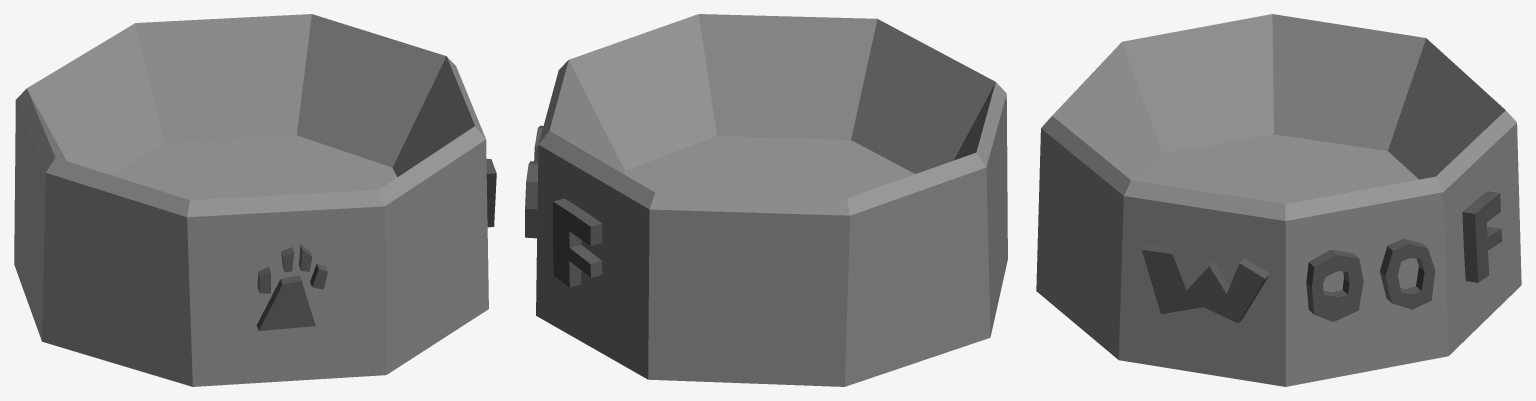
The model's file is Bowl.fbx.
The picture shows the model from 3 angles, left to right: view 1: azimuth 30°, elevation 25°; view 2: azimuth 150°, elevation 25°; view 3: azimuth 270°, elevation 25°; orthographic projection. The views are drawn at different scales.
Visible parts, largest first — view 1: Bowl; view 2: Bowl; view 3: Bowl.
Boxes of the visible parts, box(x1,y1,x2,y2) form: Bowl: box(14, 14, 496, 386); Bowl: box(525, 14, 1007, 386); Bowl: box(1036, 14, 1521, 386).
Bounding box in the file's own units: 34.14 × 34.17 × 13.72.
